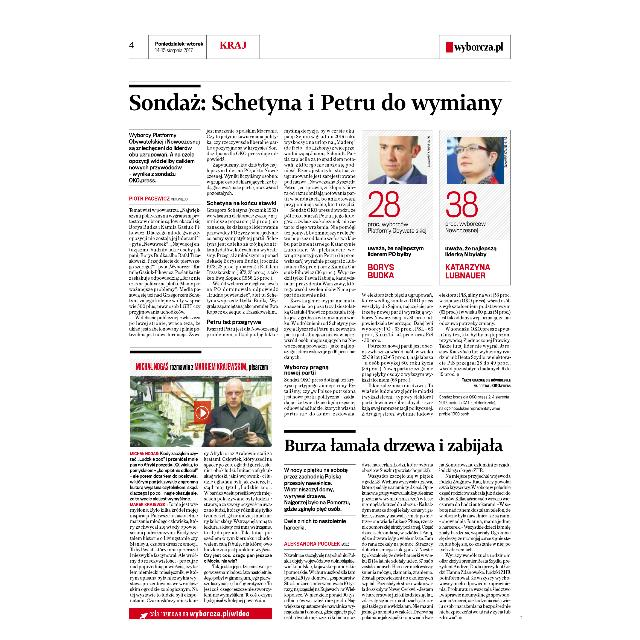article: (125, 80, 515, 420), (284, 428, 516, 624), (128, 350, 276, 606)
